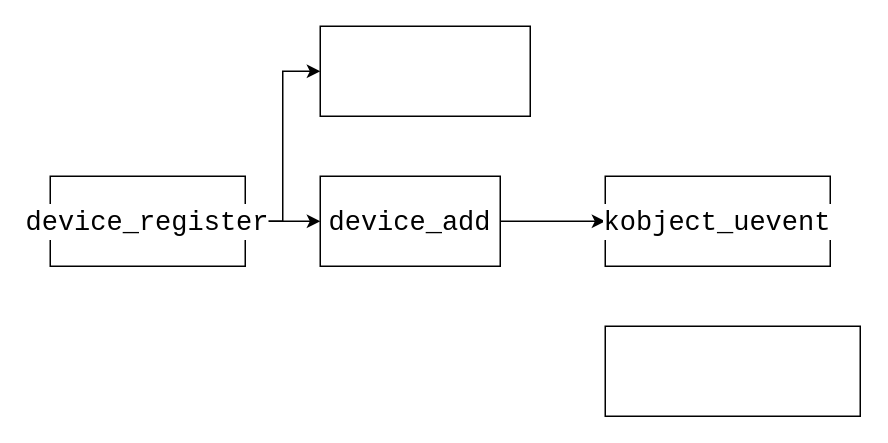
The diagram is 888 pixels wide and 443 high, and some of its shapes have lost their labels. The shapes that lost their labels are listed below. From the top down, each one's box as (x1, y1, x2, y2) in pixels, then its label:
(319, 25, 530, 116): device_initialize
(604, 325, 860, 416): bus_probe_device
